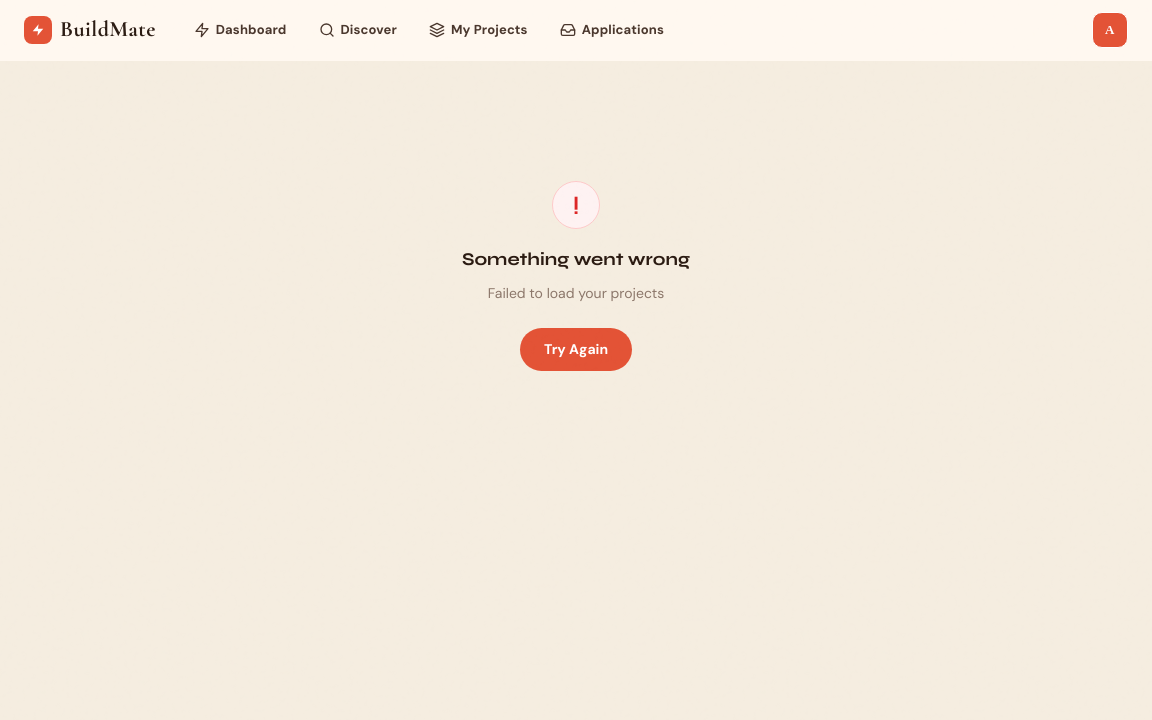
it: MyProjects › retries fetching projects when clicking retry button in error state
Click the button "Try Again" at (576, 350), box [520, 328, 632, 371]
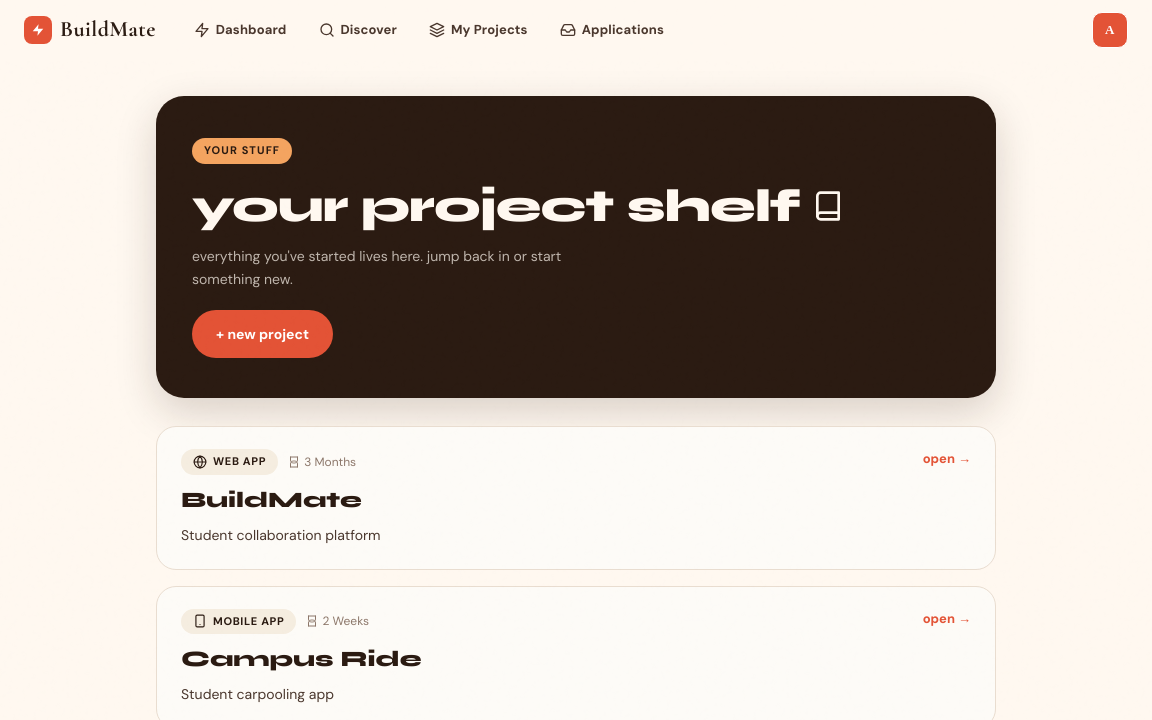
Now the heading "BuildMate" is shown, box [181, 487, 362, 513]
